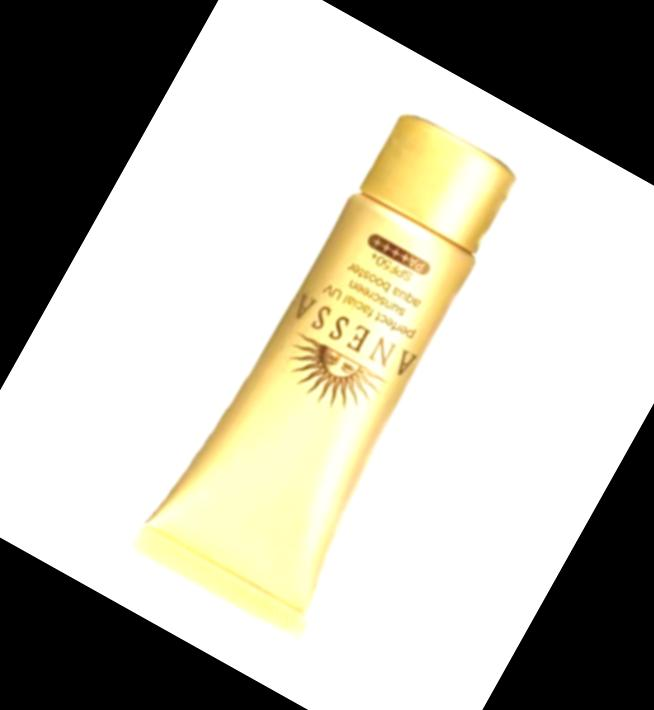cosmetic: (128, 94, 554, 643)
